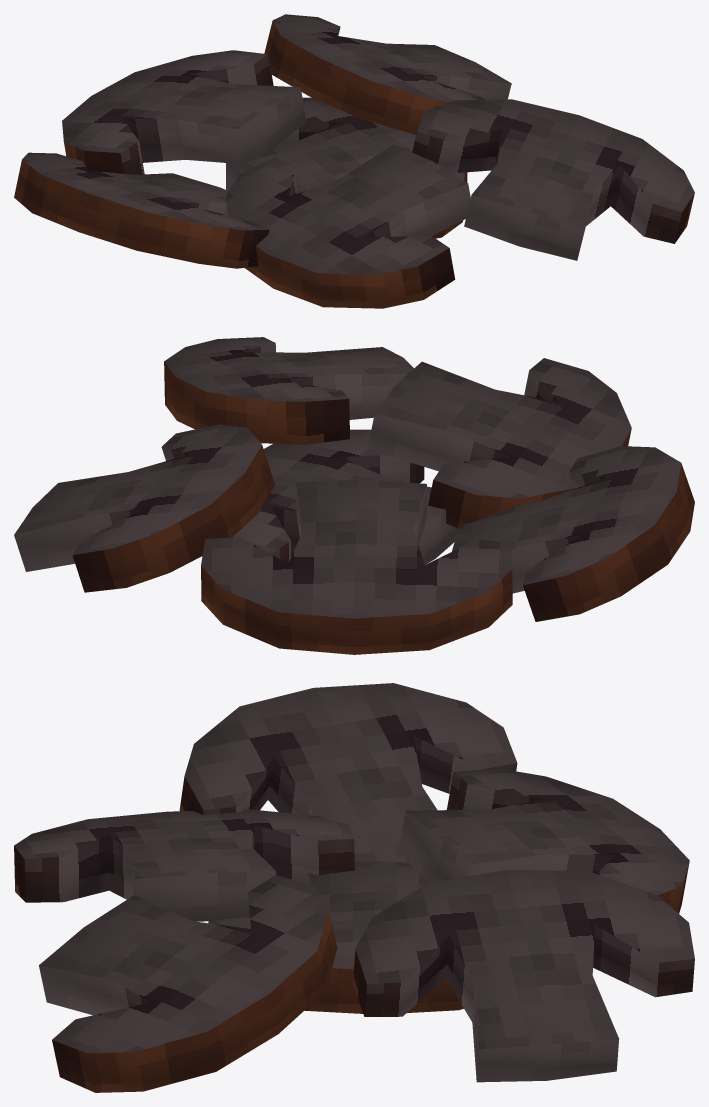
File: Mushroom_Cut.glb
The picture shows the model from 3 angles, top to bottom: view 1: azimuth 30°, elevation 25°; view 2: azimuth 150°, elevation 25°; view 3: azimuth 270°, elevation 25°; orthographic projection. The views are drawn at different scales.
Parts seen in each view (by area): view 1: CutMushroom; view 2: CutMushroom; view 3: CutMushroom.
Part boxes in pixels (bbox=[...]): CutMushroom: bbox=[14, 14, 694, 308]; CutMushroom: bbox=[14, 337, 694, 654]; CutMushroom: bbox=[14, 683, 694, 1092].
Bounding box in the file's own units: 0.299 × 0.0504 × 0.2704.
1 material, 1 textured.
